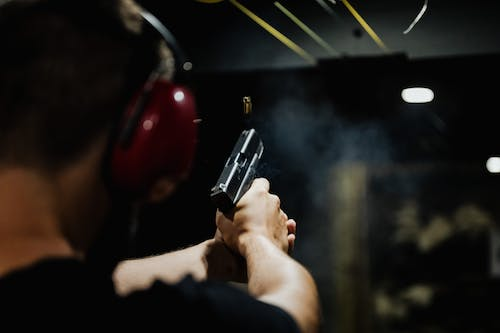gun: (208, 126, 265, 218)
